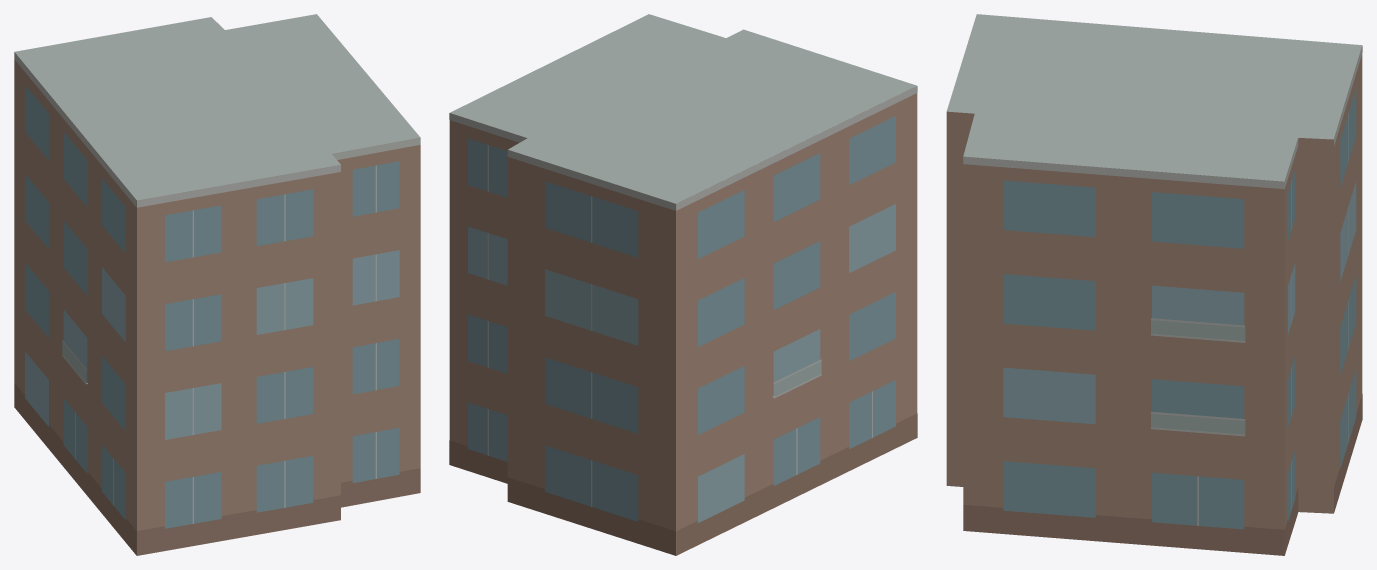
The model's file is survey-upis-32684562.glb.
3 views of the same model, side by side, from view 1: azimuth 30°, elevation 25°; view 2: azimuth 150°, elevation 25°; view 3: azimuth 270°, elevation 25° (orthographic). The views are drawn at different scales.
Visible parts, largest first — view 1: survey-upis-32684562.tmp; view 2: survey-upis-32684562.tmp; view 3: survey-upis-32684562.tmp.
Part boxes in pixels (x1,y1,x2,y2): survey-upis-32684562.tmp: (14,14,420,555); survey-upis-32684562.tmp: (449,14,917,555); survey-upis-32684562.tmp: (946,14,1362,555).
Size of the model in its own units: 11.63 by 12.1 by 12.2.
